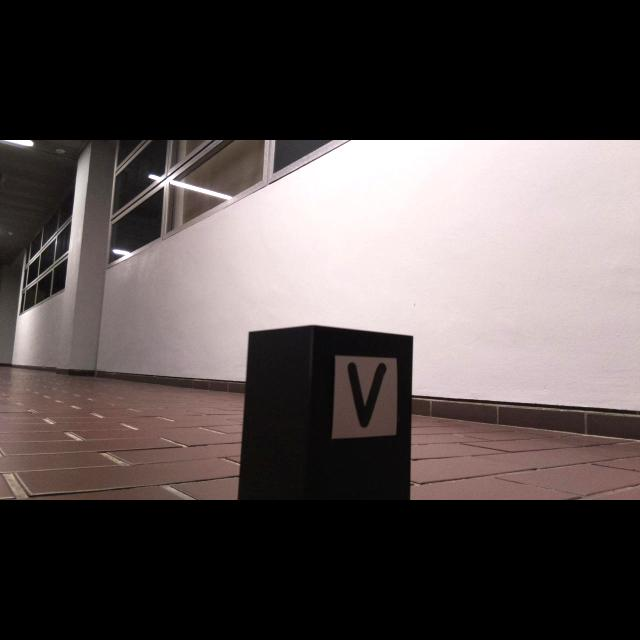V: (348, 361, 387, 426)
